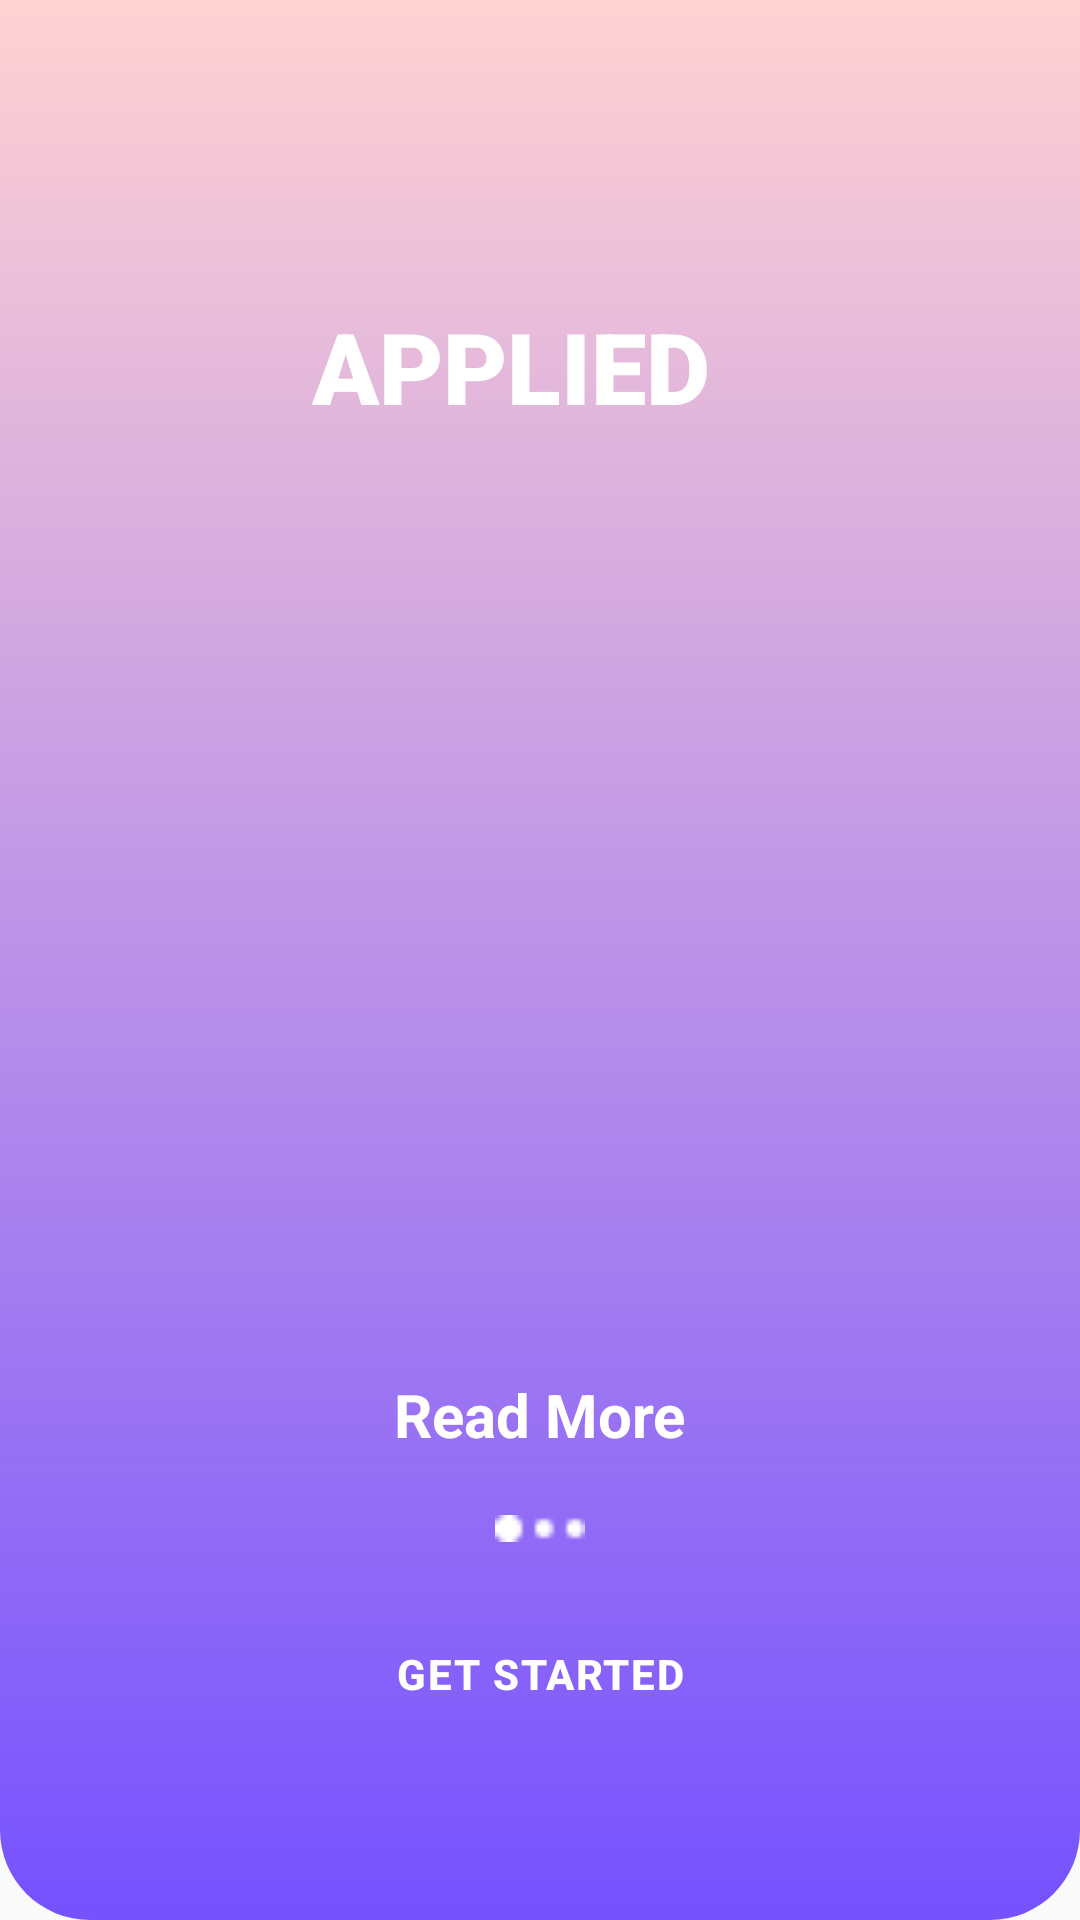

Screen size 1080×1920. Icon name, then its box in pixels as (x1, y1, x2, y2):
dot: (495, 1515, 585, 1542)
